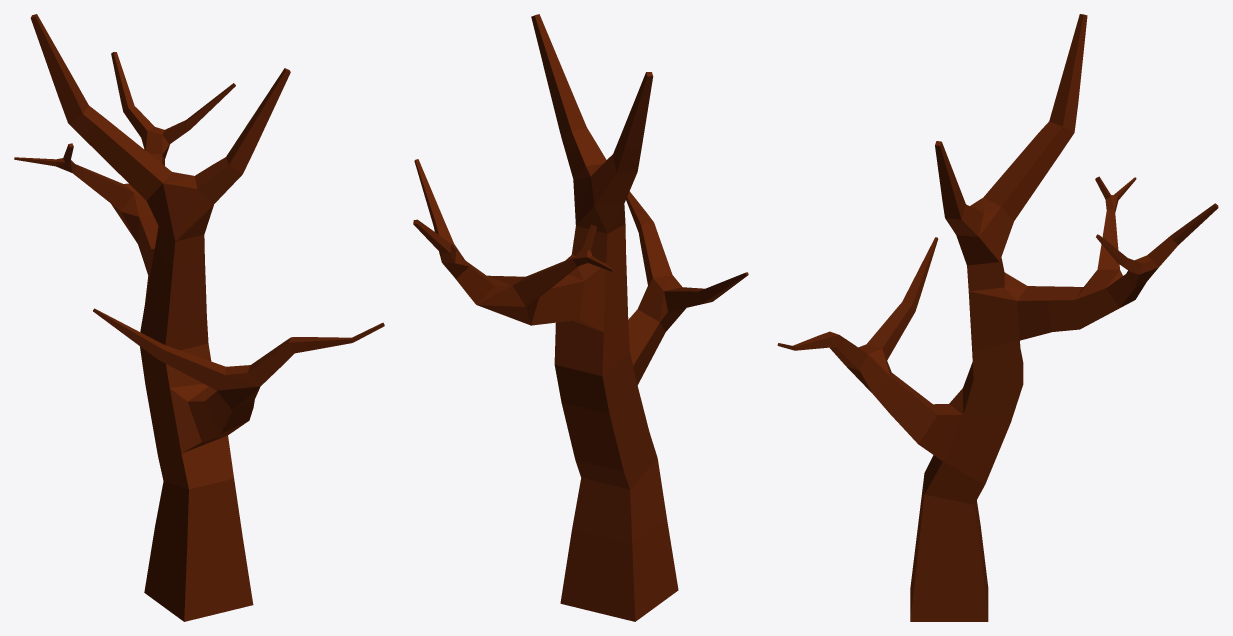
File: Tree1.fbx
3 views of the same model, side by side, from view 1: azimuth 30°, elevation 25°; view 2: azimuth 150°, elevation 25°; view 3: azimuth 270°, elevation 25° (orthographic). The views are drawn at different scales.
Visible parts, largest first — view 1: Vert; view 2: Vert; view 3: Vert.
Boxes of the visible parts, bbox=[...] form: Vert: bbox=[14, 14, 384, 621]; Vert: bbox=[413, 14, 748, 621]; Vert: bbox=[777, 14, 1218, 621].
Bounding box in the file's own units: 421 × 993 × 727.
